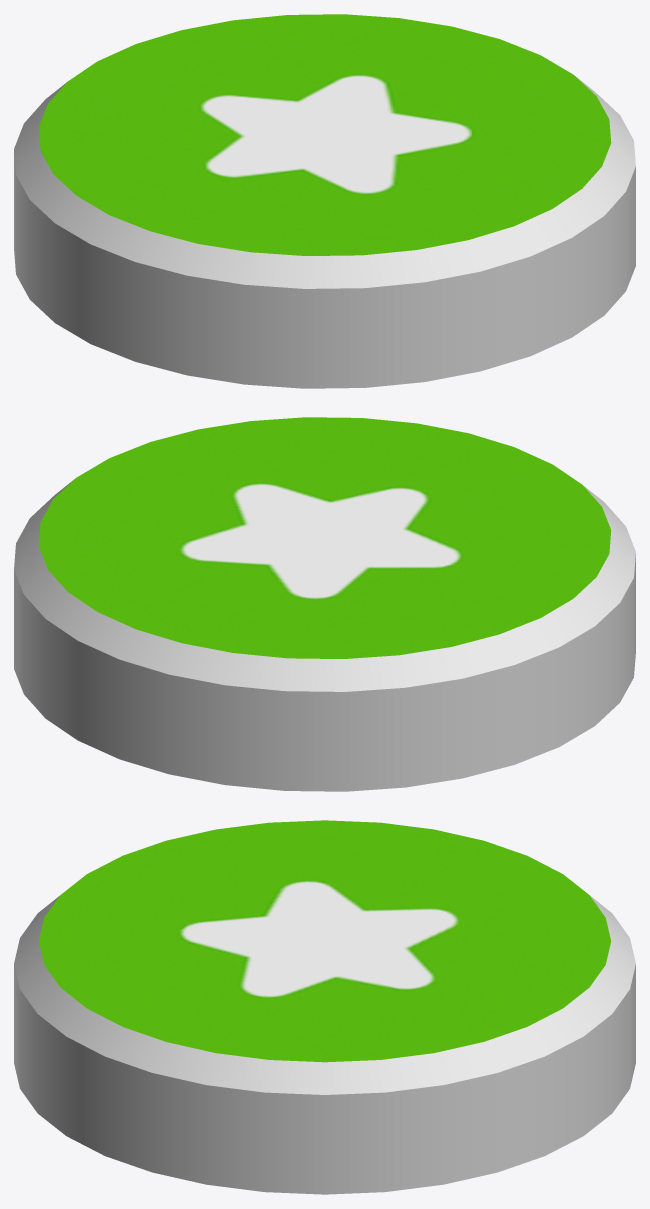
The model's file is MAGIC BUTTON.fbx.
3 views of the same model, one above another, from view 1: azimuth 30°, elevation 25°; view 2: azimuth 150°, elevation 25°; view 3: azimuth 270°, elevation 25° (orthographic).
Visible parts, largest first — view 1: Roadmap_Current; view 2: Roadmap_Current; view 3: Roadmap_Current.
Boxes of the visible parts, <box> form: Roadmap_Current: <box>14,14,635,388</box>; Roadmap_Current: <box>14,417,635,791</box>; Roadmap_Current: <box>14,820,635,1194</box>.
Bounding box in the file's own units: 0.2525 × 0.0546 × 0.2525.
